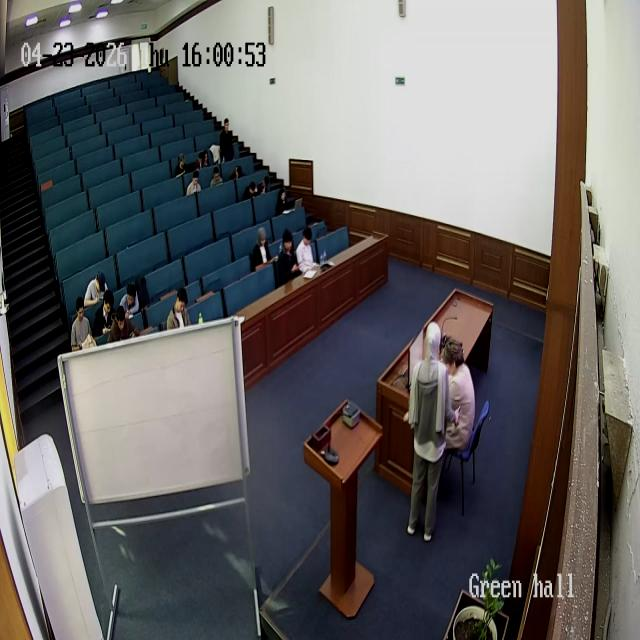person: (404, 322, 458, 541), (440, 339, 476, 462), (276, 229, 302, 287), (70, 296, 96, 351), (91, 291, 115, 342), (166, 287, 192, 331), (295, 225, 318, 274), (252, 226, 276, 271), (109, 305, 137, 341), (84, 271, 109, 308), (119, 282, 141, 324), (219, 118, 235, 164), (275, 184, 297, 216), (186, 168, 202, 196), (174, 154, 190, 177), (232, 162, 248, 185), (244, 179, 260, 201), (198, 146, 211, 170), (210, 166, 224, 188), (260, 175, 273, 188)
